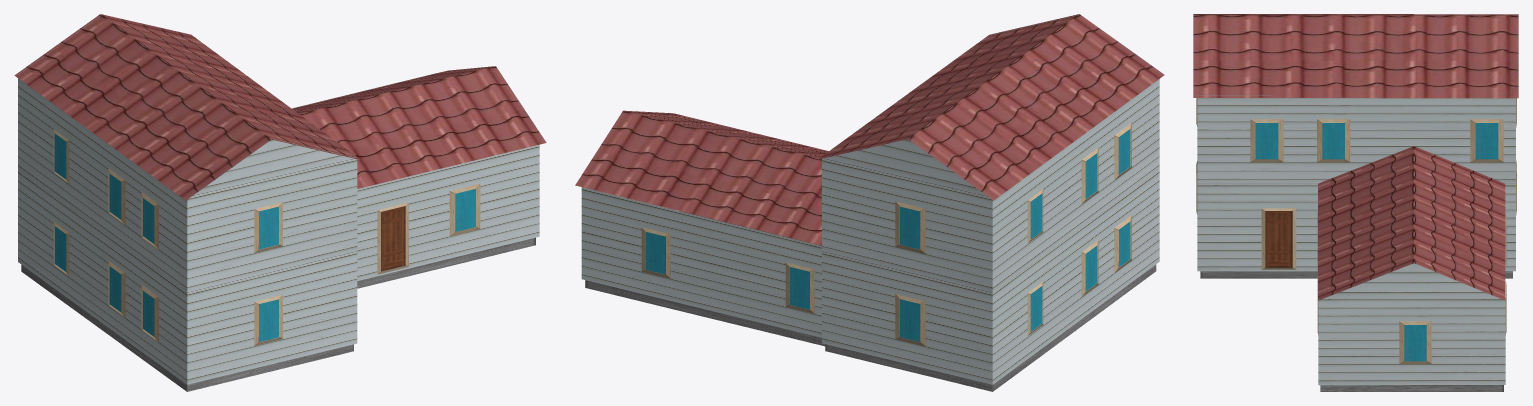
File: Hus5v3.glb
3 renders of one model, left to right at view 1: azimuth 30°, elevation 25°; view 2: azimuth 150°, elevation 25°; view 3: azimuth 270°, elevation 25°, orthographic. The views are drawn at different scales.
Visible parts, largest first — view 1: Hus5; view 2: Hus5; view 3: Hus5.
Boxes of the visible parts, <box> form: Hus5: <box>14,14,546,391</box>; Hus5: <box>575,14,1164,391</box>; Hus5: <box>1193,14,1518,391</box>.
Size of the model in its own units: 16.94 by 8.93 by 11.8.
Materials: 1 (1 with a texture image).
